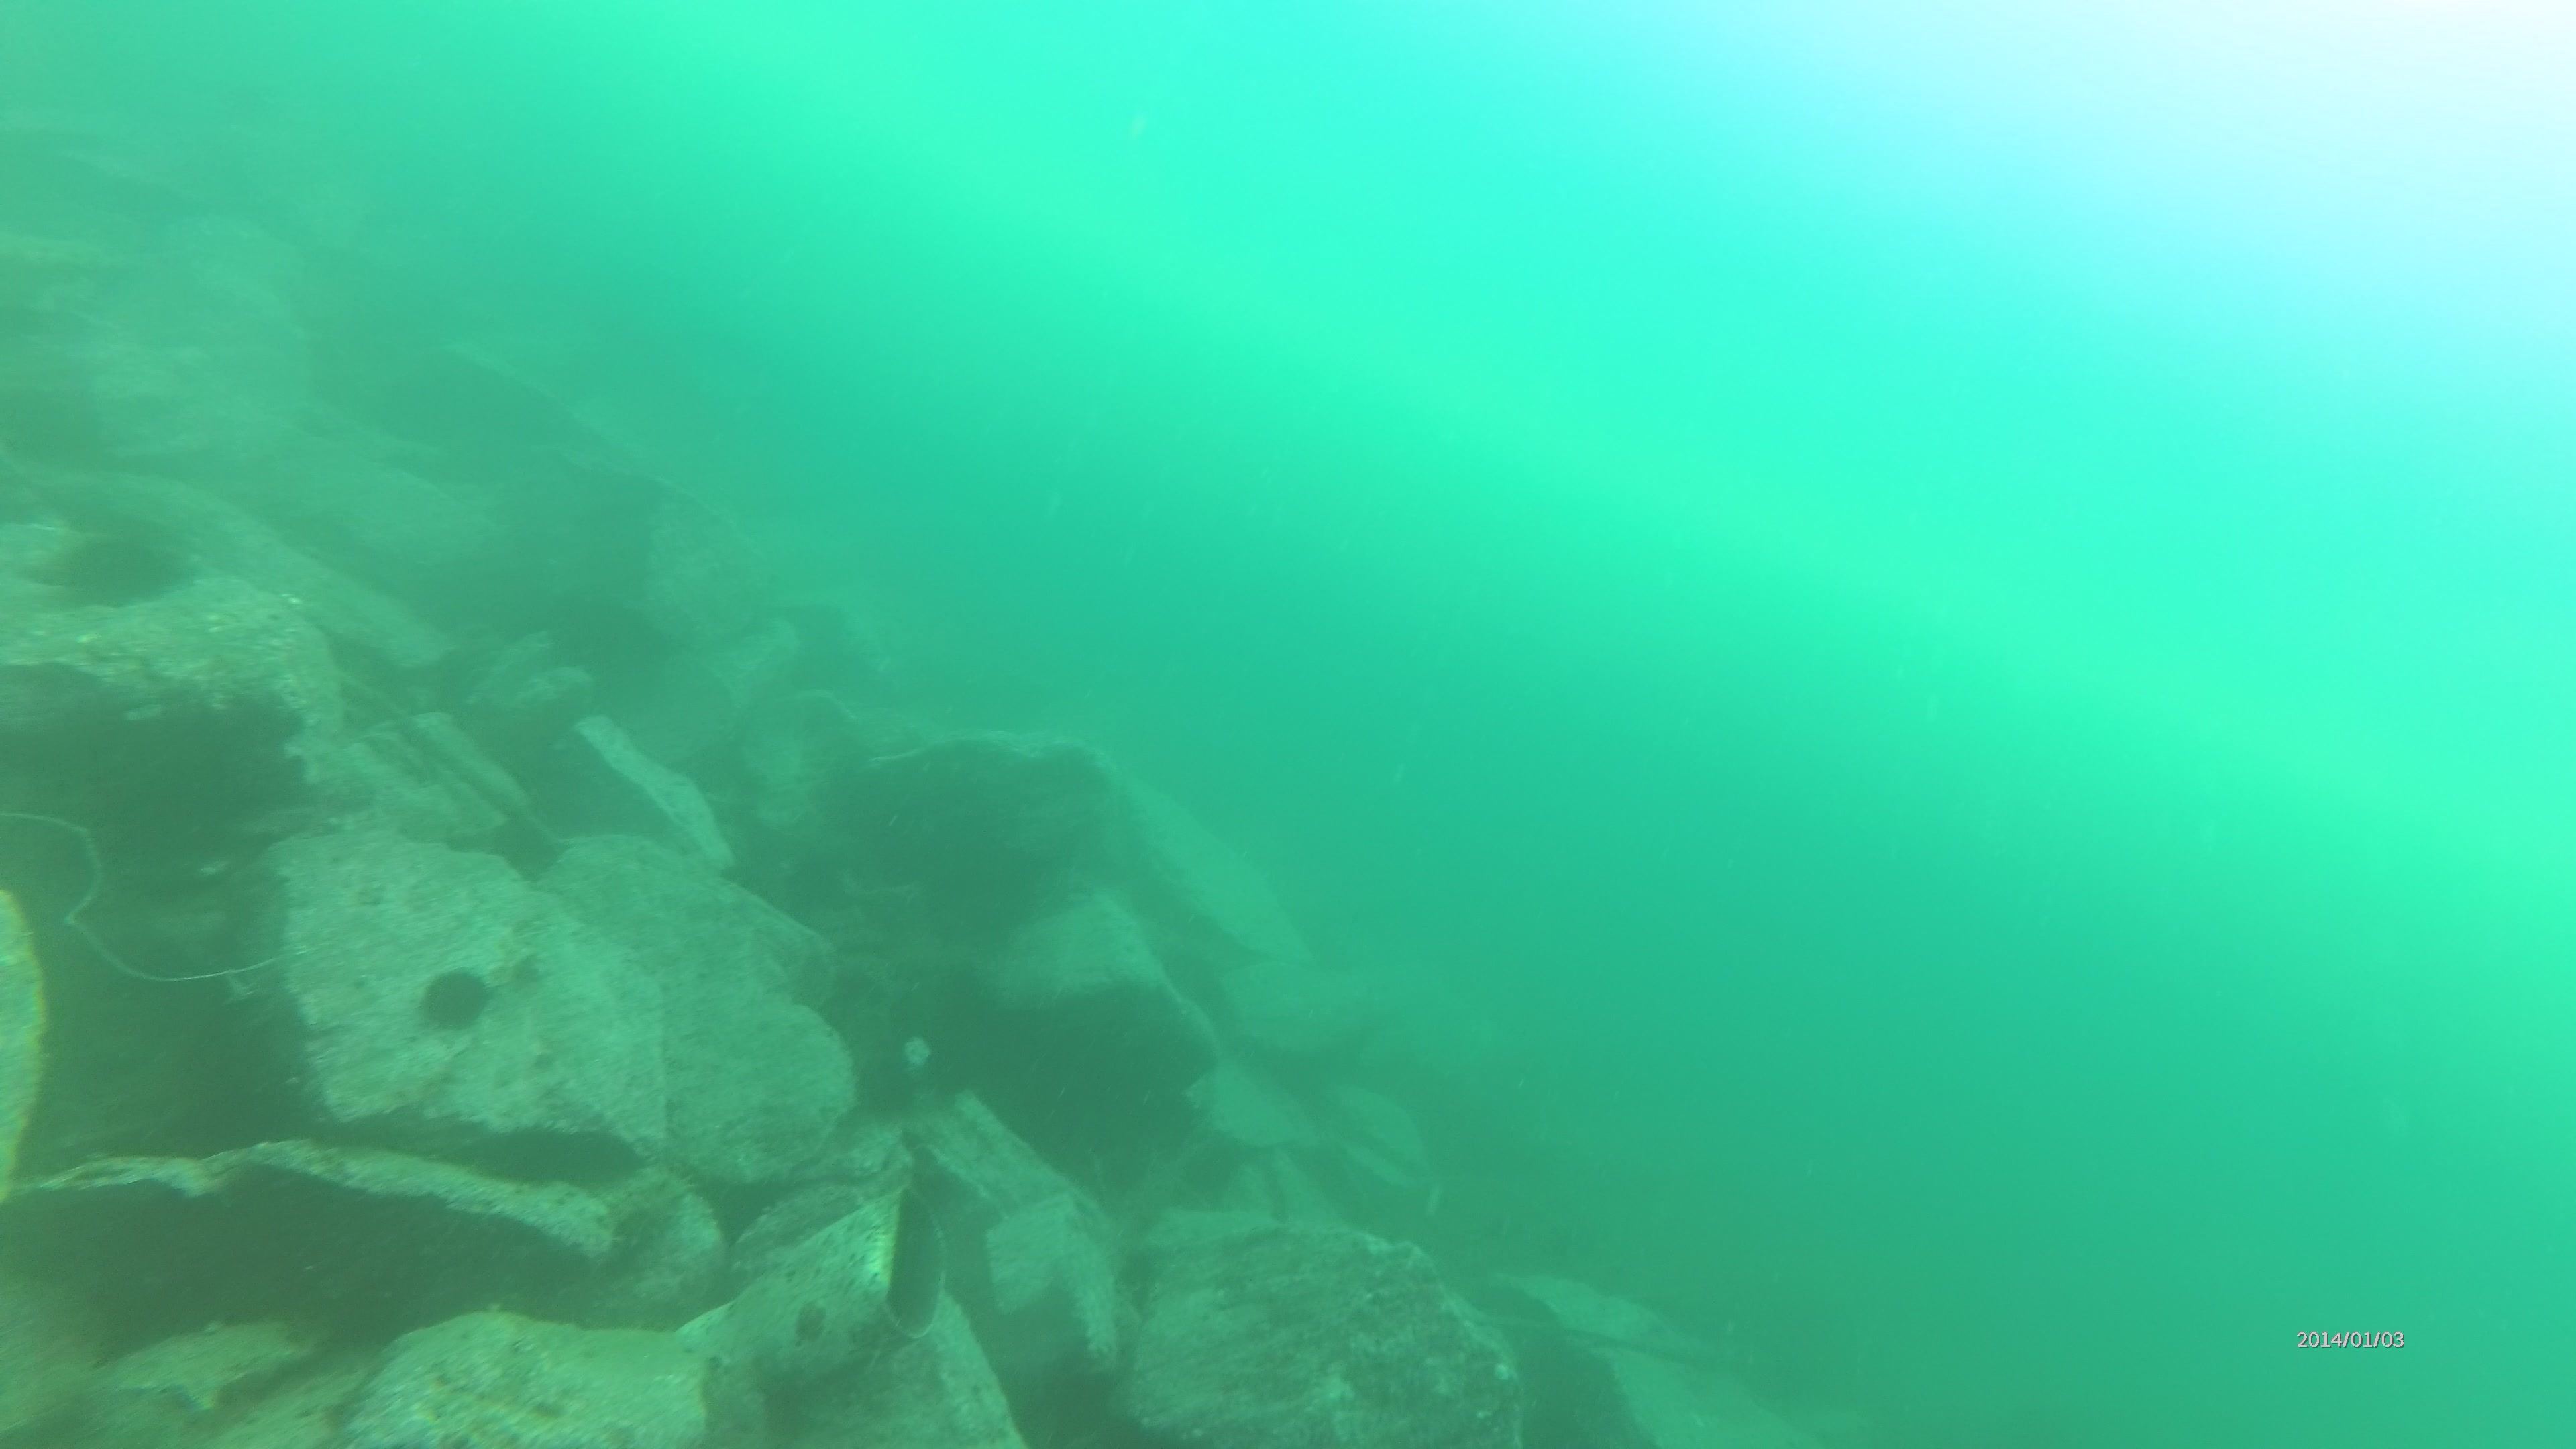echinus: (48, 538, 200, 616), (414, 952, 506, 1047), (840, 1047, 920, 1132), (771, 858, 863, 931)
